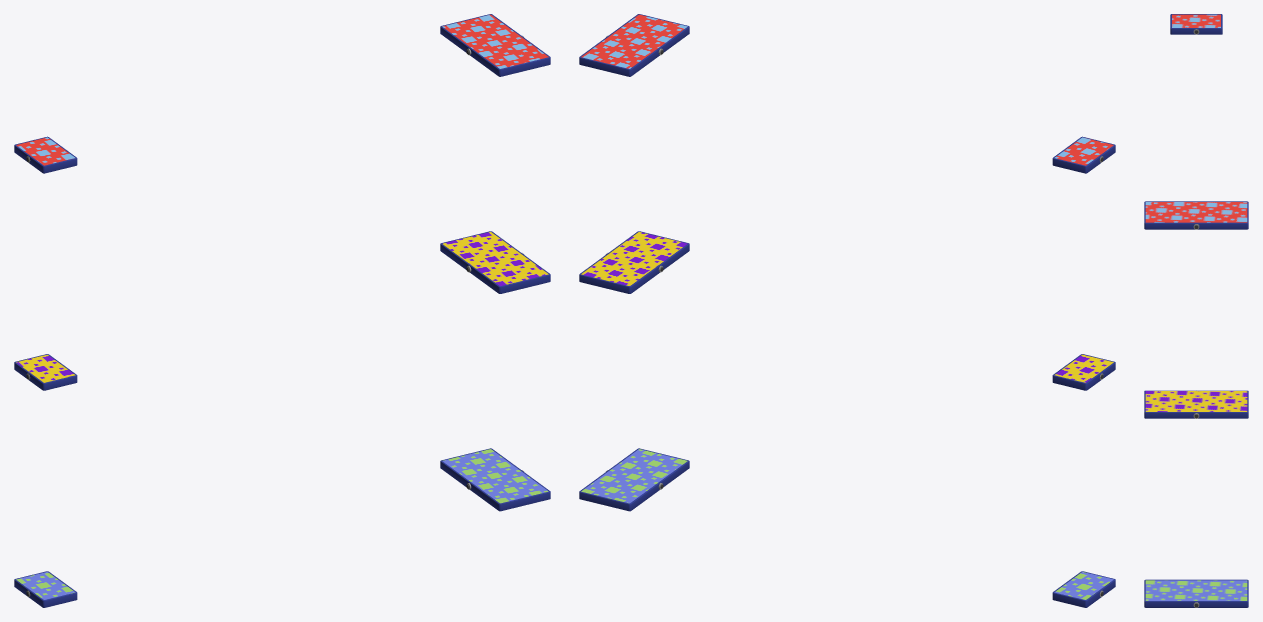
The model's file is Seesaws.fbx.
The picture shows the model from 3 angles, left to right: view 1: azimuth 30°, elevation 25°; view 2: azimuth 150°, elevation 25°; view 3: azimuth 270°, elevation 25°; orthographic projection. The views are drawn at different scales.
Visible parts, largest first — view 1: Seesaw_5x2m_Yellow, Seesaw_5x2m_Red, Seesaw_5x2m_Blue, Seesaw_2x1m_Yellow, Seesaw_2x1m_Blue, Seesaw_2x1m_Red; view 2: Seesaw_5x2m_Yellow, Seesaw_5x2m_Red, Seesaw_5x2m_Blue, Seesaw_2x1m_Yellow, Seesaw_2x1m_Blue, Seesaw_2x1m_Red; view 3: Seesaw_5x2m_Yellow, Seesaw_5x2m_Blue, Seesaw_5x2m_Red, Seesaw_2x1m_Red.
Part boxes in pixels (<box>): Seesaw_5x2m_Yellow: <box>440,231,550,293</box>; Seesaw_5x2m_Red: <box>440,14,550,76</box>; Seesaw_5x2m_Blue: <box>440,448,550,511</box>; Seesaw_2x1m_Yellow: <box>14,354,77,390</box>; Seesaw_2x1m_Blue: <box>14,571,77,607</box>; Seesaw_2x1m_Red: <box>14,136,77,173</box>; Seesaw_5x2m_Yellow: <box>579,231,689,293</box>; Seesaw_5x2m_Red: <box>579,14,689,76</box>; Seesaw_5x2m_Blue: <box>579,448,689,511</box>; Seesaw_2x1m_Yellow: <box>1052,354,1115,390</box>; Seesaw_2x1m_Blue: <box>1052,571,1115,607</box>; Seesaw_2x1m_Red: <box>1052,136,1115,173</box>; Seesaw_5x2m_Yellow: <box>1144,390,1248,418</box>; Seesaw_5x2m_Blue: <box>1144,579,1248,607</box>; Seesaw_5x2m_Red: <box>1144,201,1248,229</box>; Seesaw_2x1m_Red: <box>1170,14,1222,34</box>.
Bounding box in the file's own units: 14.34 × 3 × 12.2.
